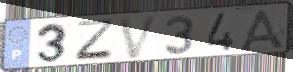3: (35, 21, 72, 65), (163, 13, 196, 57)
4: (206, 11, 235, 52)
A: (236, 7, 288, 51)
V: (116, 14, 161, 60)
Z: (74, 18, 118, 62)
